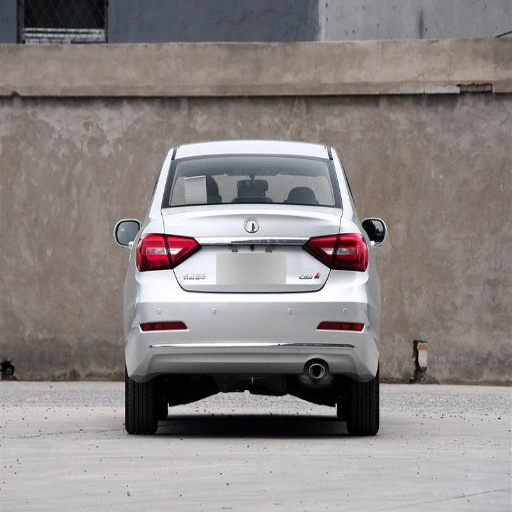back_bumper: (129, 269, 380, 379)
trunk: (162, 208, 341, 292)
